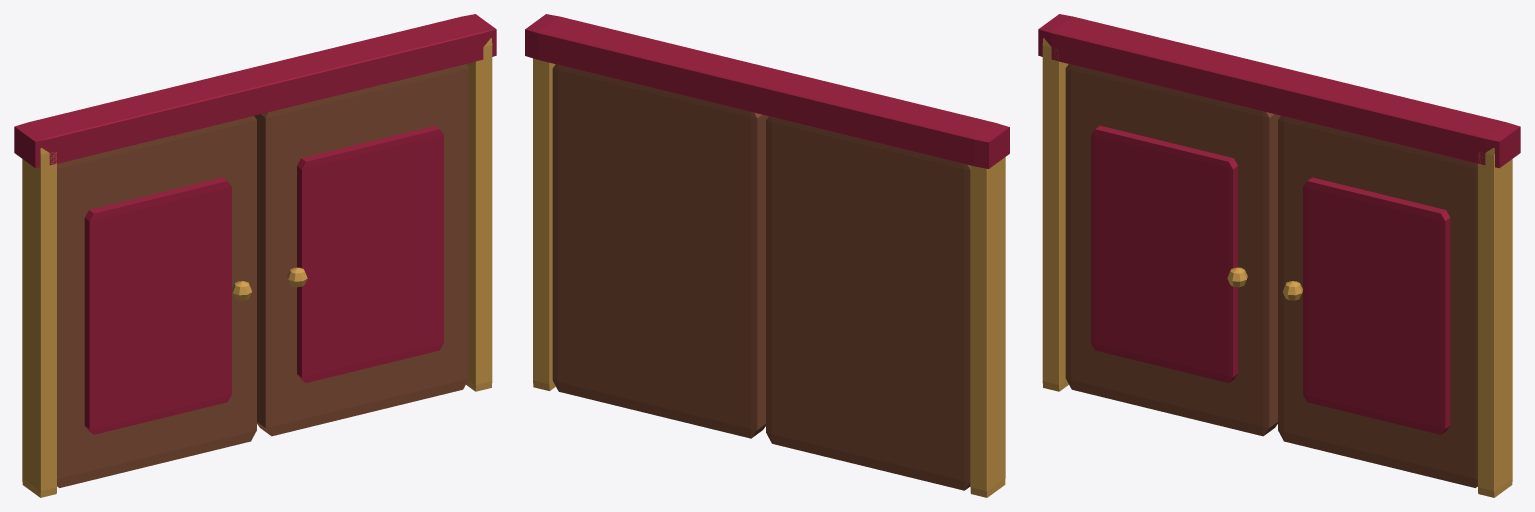
The model's file is foyer_doors.glb.
3 views of the same model, side by side, from view 1: azimuth 30°, elevation 25°; view 2: azimuth 150°, elevation 25°; view 3: azimuth 330°, elevation 25° (orthographic).
Visible parts, largest first — view 1: door_right, door_panel_-1, door_panel_1, door_left, door_header, door_left_trim, door_right_trim; view 2: door_right, door_left, door_header, door_left_trim, door_right_trim; view 3: door_left, door_panel_1, door_panel_-1, door_right, door_header, door_right_trim, door_left_trim.
Boxes of the visible parts, left/top/right/bottom form: door_right: left=254, top=64, right=469, bottom=436; door_panel_-1: left=84, top=177, right=231, bottom=434; door_panel_1: left=297, top=125, right=443, bottom=382; door_left: left=57, top=116, right=256, bottom=487; door_header: left=14, top=14, right=496, bottom=168; door_left_trim: left=22, top=148, right=56, bottom=497; door_right_trim: left=466, top=38, right=492, bottom=391; door_right: left=552, top=64, right=768, bottom=438; door_left: left=766, top=116, right=970, bottom=490; door_header: left=525, top=14, right=1009, bottom=168; door_left_trim: left=970, top=157, right=1005, bottom=497; door_right_trim: left=533, top=58, right=555, bottom=391; door_left: left=1065, top=64, right=1280, bottom=436; door_panel_1: left=1303, top=177, right=1450, bottom=434; door_panel_-1: left=1091, top=125, right=1237, bottom=382; door_right: left=1278, top=116, right=1477, bottom=487; door_header: left=1038, top=14, right=1520, bottom=168; door_right_trim: left=1478, top=148, right=1512, bottom=497; door_left_trim: left=1042, top=38, right=1068, bottom=391.
Size of the model in its own units: 6 by 4.45 by 0.69.
